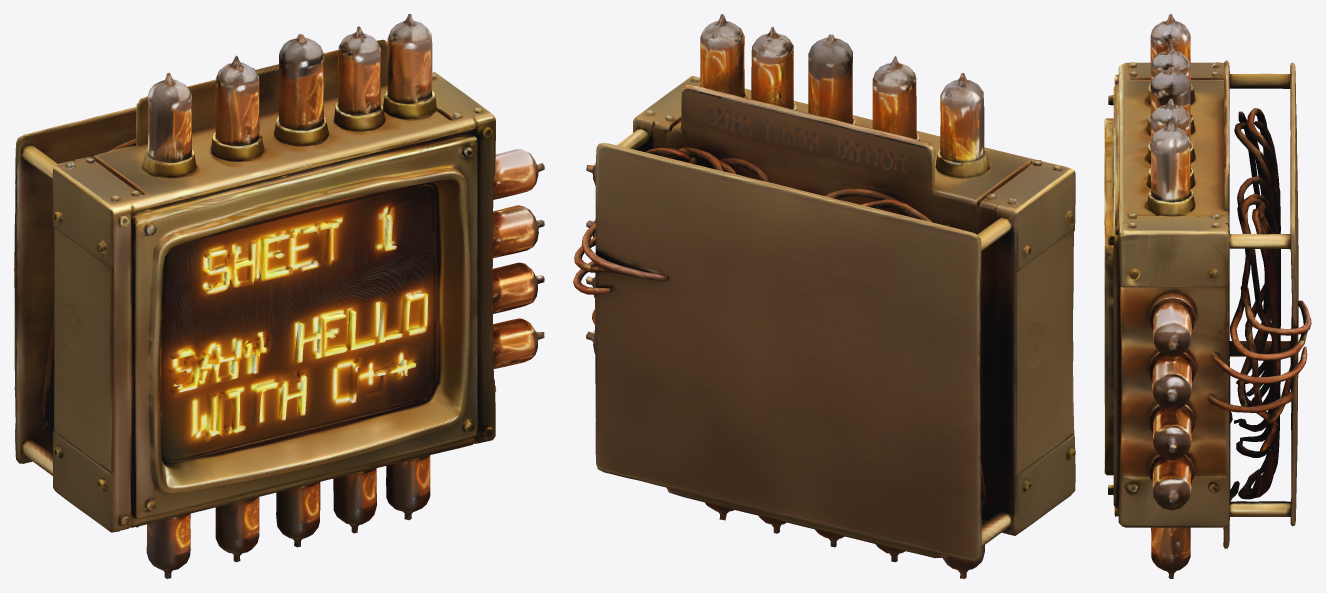
File: sheet1.glb
3 views of the same model, side by side, from view 1: azimuth 30°, elevation 25°; view 2: azimuth 150°, elevation 25°; view 3: azimuth 270°, elevation 25° (orthographic). The views are drawn at different scales.
Visible parts, largest first — view 1: model; view 2: model; view 3: model.
Part boxes in pixels (box(x1,y1,x2,y2)): model: box(14, 14, 544, 578); model: box(573, 14, 1075, 578); model: box(1104, 14, 1311, 578).
Bounding box in the file's own units: 1.67 × 1.75 × 0.7102.
1 material, 1 textured.
